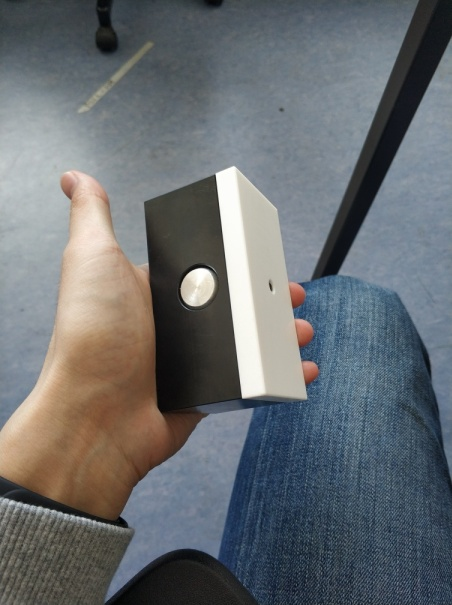white+black+silver: (140, 161, 310, 411)
